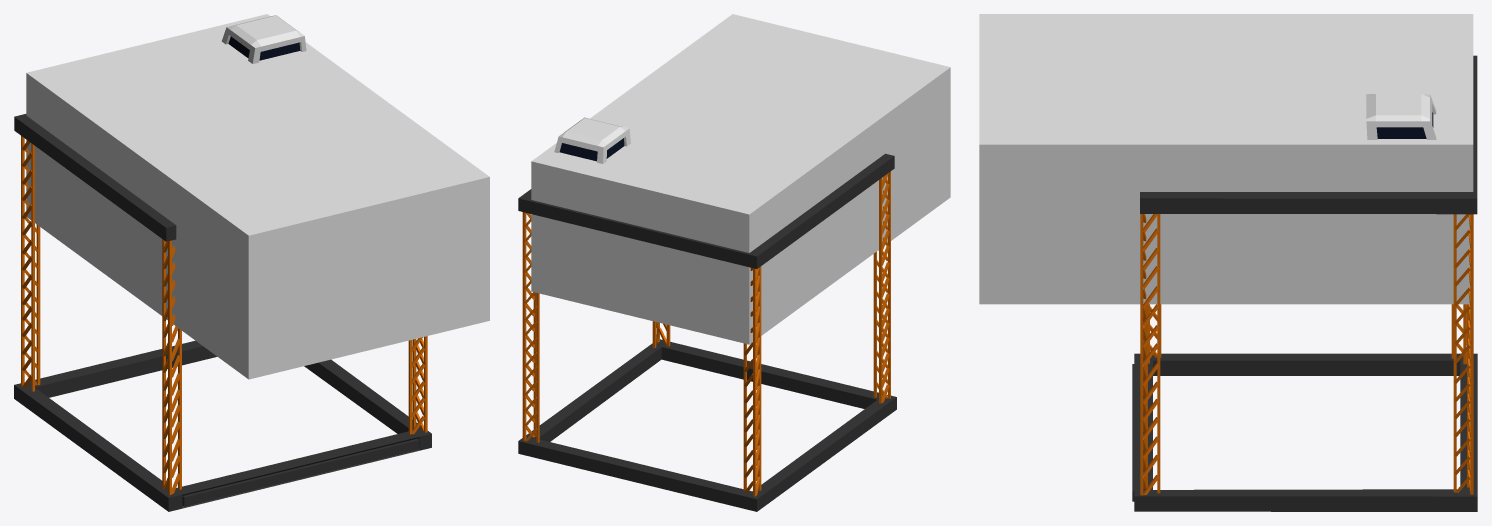
The picture shows the model from 3 angles, left to right: view 1: azimuth 30°, elevation 25°; view 2: azimuth 150°, elevation 25°; view 3: azimuth 270°, elevation 25°; orthographic projection. The views are drawn at different scales.
Parts seen in each view (by area): view 1: road_rig_0001_box, road_rig_0001; view 2: road_rig_0001_box, road_rig_0001; view 3: road_rig_0001_box, road_rig_0001.
Part boxes in pixels (x1,y1,x2,y2): road_rig_0001_box: [26, 14, 489, 379]; road_rig_0001: [14, 15, 431, 511]; road_rig_0001_box: [531, 14, 950, 344]; road_rig_0001: [518, 117, 896, 511]; road_rig_0001_box: [979, 14, 1473, 304]; road_rig_0001: [1132, 55, 1477, 511].
Size of the model in its own units: 7.7 by 9.59 by 11.34.
